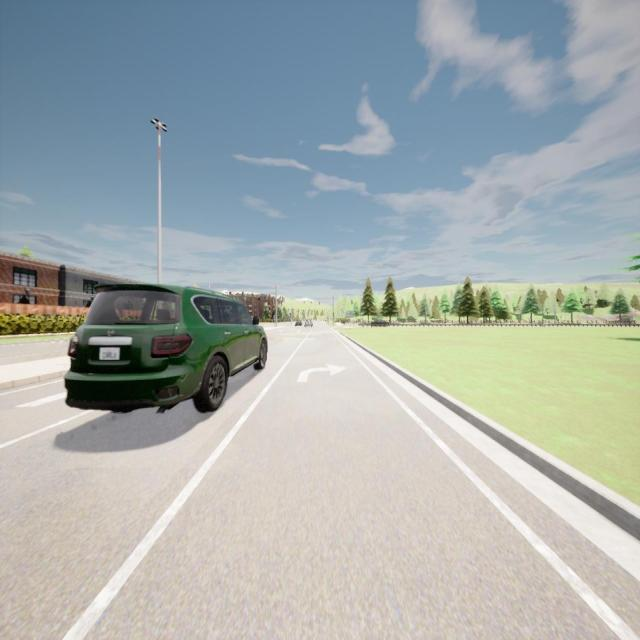Vehicle: (64, 282, 268, 415), (294, 319, 303, 328), (305, 319, 313, 328)
